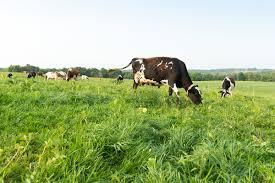cow: (131, 56, 203, 108), (218, 76, 236, 100), (65, 66, 82, 84), (40, 70, 60, 82), (27, 72, 36, 78), (117, 75, 123, 82)
